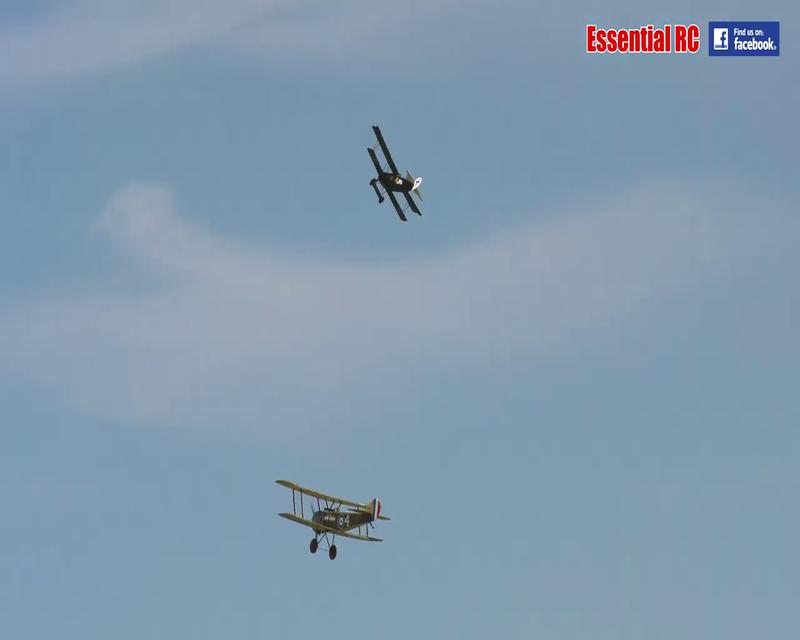UAV: (274, 478, 390, 560), (364, 121, 424, 223)
